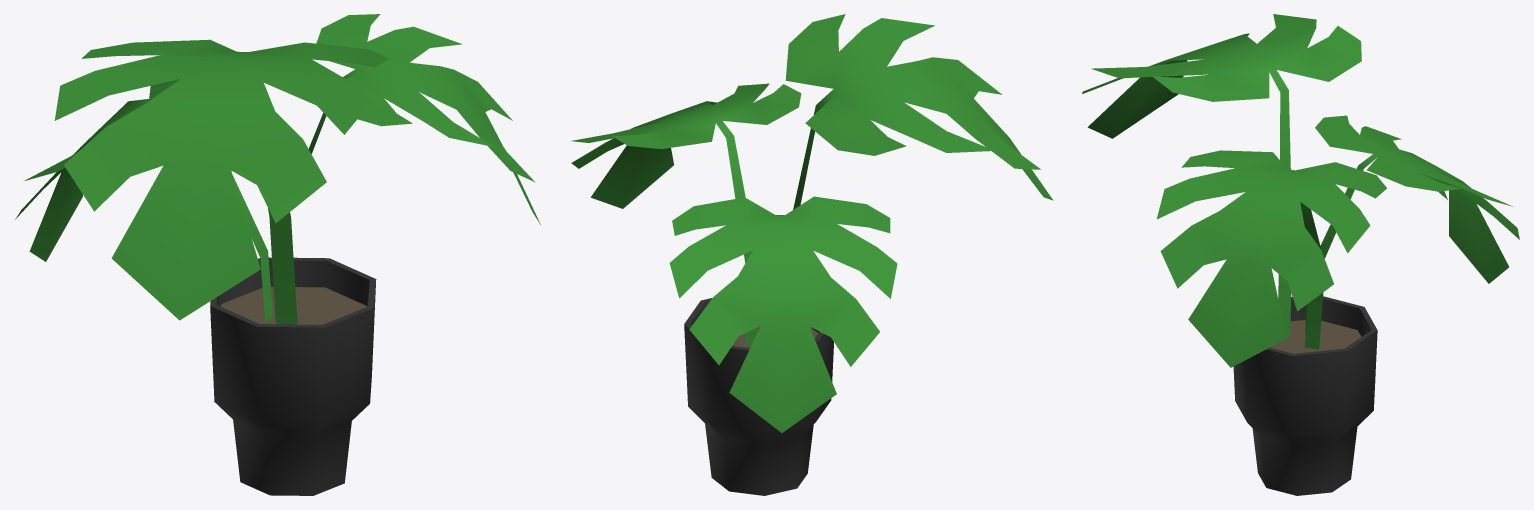
The model's file is plant.glb.
3 renders of one model, left to right at view 1: azimuth 30°, elevation 25°; view 2: azimuth 150°, elevation 25°; view 3: azimuth 270°, elevation 25°, orthographic. The views are drawn at different scales.
Visible parts, largest first — view 1: plant; view 2: plant; view 3: plant.
Boxes of the visible parts, x1=… form: plant: x1=15, y1=14, x2=540, y2=495; plant: x1=571, y1=14, x2=1053, y2=495; plant: x1=1082, y1=14, x2=1519, y2=495.
Size of the model in its own units: 5 by 4.73 by 4.73.
